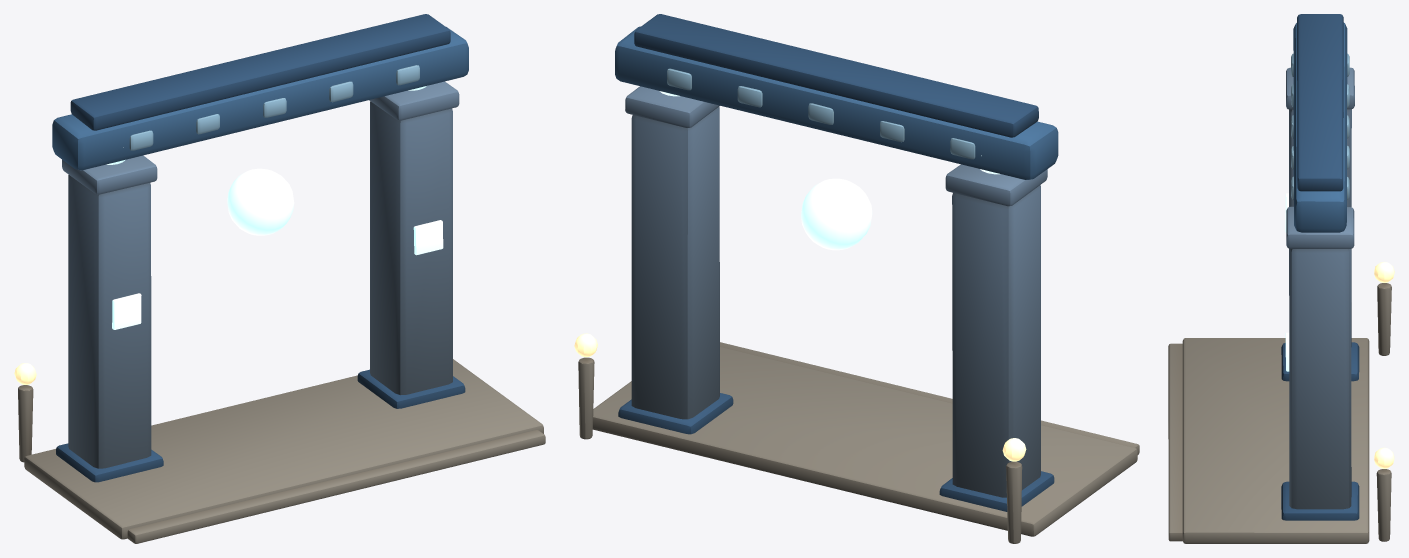
3 views of the same model, side by side, from view 1: azimuth 30°, elevation 25°; view 2: azimuth 150°, elevation 25°; view 3: azimuth 270°, elevation 25° (orthographic). The views are drawn at different scales.
Visible parts, largest first — view 1: gate_25b19532; view 2: gate_25b19532; view 3: gate_25b19532.
Part boxes in pixels (x1,y1,x2,y2): gate_25b19532: (14, 14, 545, 543); gate_25b19532: (574, 14, 1139, 543); gate_25b19532: (1168, 14, 1394, 543).
Bounding box in the file's own units: 5.21 × 4.37 × 2.54.
